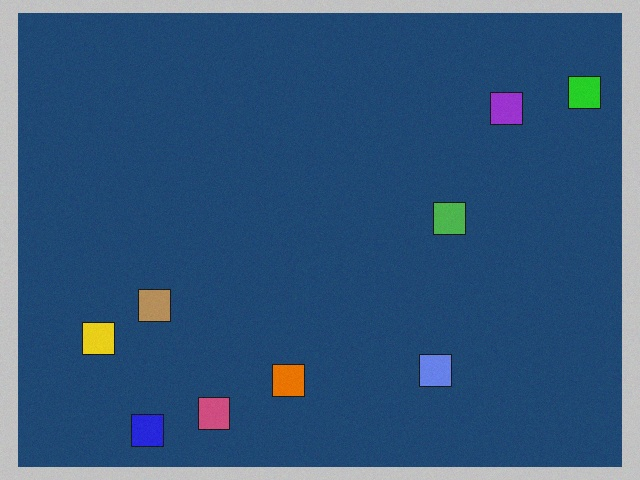block: (555, 77, 601, 116), (132, 405, 172, 447), (83, 318, 126, 355), (481, 93, 522, 131), (198, 389, 235, 429), (414, 348, 451, 386), (138, 287, 178, 321), (272, 357, 305, 396), (428, 203, 466, 235)
